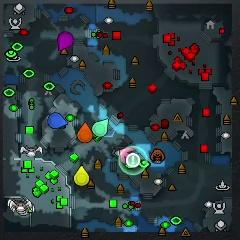Other: (126, 153, 140, 168)
p1: (48, 113, 68, 129)
p2: (92, 118, 109, 137)
p3: (57, 31, 73, 50)
p4: (73, 166, 89, 186)
p5: (78, 122, 92, 143)
x1: (119, 148, 135, 163)
